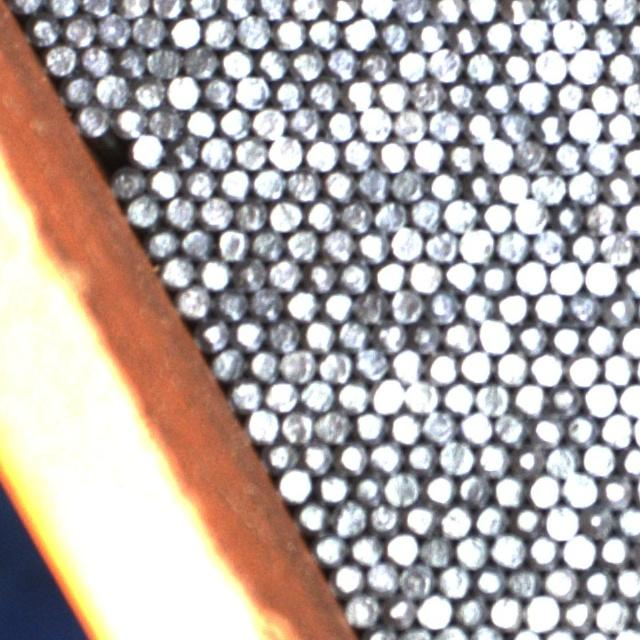tool: (552, 16, 587, 52), (354, 344, 389, 380), (439, 438, 474, 474), (422, 470, 457, 506), (389, 286, 424, 322), (399, 562, 434, 598), (366, 497, 402, 532), (384, 469, 419, 505), (62, 12, 97, 47), (525, 594, 560, 629), (426, 287, 461, 322), (569, 47, 604, 82), (376, 137, 411, 172), (531, 168, 566, 203), (493, 409, 528, 444), (406, 258, 441, 293), (544, 503, 579, 538), (404, 377, 439, 412), (147, 43, 182, 78), (457, 470, 492, 505), (458, 409, 493, 444), (436, 563, 471, 598), (232, 256, 267, 291), (110, 163, 145, 198), (582, 440, 616, 476), (543, 564, 579, 598), (506, 564, 542, 598), (516, 16, 550, 52), (371, 376, 405, 412), (562, 472, 598, 506), (316, 469, 350, 504), (168, 13, 202, 48), (595, 596, 629, 631), (342, 15, 376, 50), (568, 107, 602, 142), (545, 443, 580, 477), (266, 317, 301, 351), (368, 438, 403, 472), (417, 593, 452, 627), (391, 167, 426, 201), (494, 350, 529, 384), (148, 164, 182, 199), (458, 348, 492, 383), (392, 107, 427, 141), (477, 441, 511, 476), (340, 136, 375, 170), (532, 289, 566, 324), (514, 138, 549, 172), (514, 258, 548, 293), (268, 134, 303, 168), (279, 409, 314, 443), (403, 500, 438, 534), (404, 438, 438, 473), (372, 319, 407, 353), (455, 533, 489, 568), (316, 408, 350, 443), (215, 226, 250, 260), (480, 136, 514, 171), (237, 13, 271, 48), (365, 560, 400, 594), (97, 10, 131, 45), (582, 502, 617, 536), (127, 192, 161, 227), (318, 347, 352, 382), (352, 408, 387, 442), (278, 466, 312, 501), (128, 132, 163, 166), (281, 346, 315, 381), (584, 138, 618, 173), (530, 411, 564, 446), (566, 292, 601, 326), (214, 285, 249, 319), (442, 379, 476, 414), (423, 408, 457, 443), (438, 503, 473, 537), (300, 439, 334, 474), (307, 15, 341, 50), (475, 381, 510, 415), (459, 228, 494, 262), (357, 106, 392, 140), (413, 18, 448, 52), (419, 532, 454, 566), (131, 12, 166, 46), (561, 533, 595, 568), (561, 596, 594, 632), (530, 351, 564, 385), (428, 46, 462, 80), (443, 318, 477, 352), (199, 194, 233, 228), (480, 198, 514, 232), (551, 140, 585, 174), (528, 472, 562, 506), (250, 225, 284, 259), (533, 48, 567, 82), (601, 351, 635, 385), (478, 318, 512, 352), (164, 194, 198, 228), (496, 290, 530, 324), (304, 136, 338, 170), (273, 16, 307, 50), (428, 107, 462, 141), (474, 502, 508, 536), (567, 169, 601, 203), (496, 169, 530, 203), (549, 259, 583, 293), (600, 474, 634, 508), (390, 348, 424, 382), (247, 346, 281, 380), (304, 196, 338, 230), (346, 591, 380, 625), (96, 72, 130, 106), (289, 105, 323, 139), (373, 198, 407, 232), (302, 317, 336, 351), (79, 42, 113, 76), (479, 259, 513, 293), (584, 200, 618, 234), (603, 170, 637, 204), (390, 226, 424, 260), (220, 45, 254, 79), (356, 166, 390, 200), (167, 134, 201, 168), (252, 104, 286, 138), (604, 109, 638, 143), (491, 532, 525, 566), (300, 377, 334, 411), (602, 293, 636, 327), (264, 437, 298, 471), (286, 167, 320, 201), (566, 351, 600, 385), (584, 260, 618, 294), (264, 377, 298, 411), (516, 78, 550, 112), (338, 197, 372, 231), (338, 258, 372, 292), (166, 74, 200, 108), (583, 381, 617, 415), (454, 593, 488, 627), (304, 258, 338, 292), (378, 17, 412, 51), (268, 256, 302, 290), (250, 285, 284, 319), (534, 109, 568, 143), (411, 138, 445, 172), (580, 565, 614, 599), (177, 283, 211, 317), (335, 378, 369, 412), (322, 227, 356, 261), (532, 228, 566, 262), (464, 48, 498, 82), (473, 563, 507, 597), (489, 595, 523, 629), (332, 501, 366, 535), (234, 74, 268, 108), (285, 226, 319, 260), (514, 198, 548, 232), (409, 320, 443, 354), (460, 289, 494, 323), (564, 412, 598, 446), (512, 382, 546, 416), (548, 383, 582, 417), (212, 346, 246, 380), (496, 228, 530, 262), (314, 531, 348, 565), (586, 80, 620, 114), (384, 530, 418, 564), (285, 288, 319, 322), (334, 440, 368, 474), (589, 20, 623, 54), (203, 14, 236, 49), (426, 349, 459, 384), (45, 41, 78, 76), (443, 258, 478, 291), (326, 45, 359, 80), (388, 409, 421, 444), (296, 497, 329, 532), (218, 165, 251, 199), (252, 165, 285, 199), (322, 167, 356, 200), (443, 198, 477, 231), (427, 168, 460, 202), (549, 322, 583, 355), (200, 134, 233, 168), (268, 197, 302, 230), (355, 288, 388, 322), (600, 411, 633, 445), (492, 473, 526, 506), (584, 322, 617, 356), (218, 105, 251, 139), (395, 46, 428, 80), (324, 107, 357, 141), (330, 560, 364, 593), (291, 46, 325, 79), (232, 317, 266, 350), (179, 226, 213, 259), (500, 108, 533, 142), (515, 321, 548, 355), (510, 502, 543, 536), (77, 101, 111, 134), (115, 44, 148, 78), (184, 44, 217, 78), (183, 166, 216, 200), (132, 75, 165, 109), (234, 134, 267, 168), (360, 46, 393, 80), (601, 230, 634, 264), (272, 77, 306, 110), (257, 44, 290, 78), (149, 104, 183, 137), (197, 255, 230, 289), (553, 78, 586, 112), (464, 110, 498, 143), (349, 532, 383, 565), (527, 533, 561, 566), (445, 78, 479, 111), (598, 533, 632, 566), (512, 442, 545, 476), (447, 140, 480, 173), (501, 49, 534, 82), (450, 20, 483, 53), (246, 408, 279, 441), (61, 71, 94, 104), (343, 77, 376, 110), (384, 594, 417, 627), (234, 197, 267, 230), (356, 229, 389, 262), (426, 228, 459, 261), (482, 78, 515, 111), (230, 378, 263, 411), (410, 77, 443, 110), (606, 49, 638, 83), (322, 288, 354, 322), (202, 74, 234, 108), (484, 18, 516, 52), (374, 258, 406, 292), (410, 196, 442, 230), (352, 471, 384, 505), (308, 76, 340, 110), (160, 254, 194, 286), (113, 104, 147, 136), (464, 171, 496, 204), (377, 78, 410, 110), (200, 317, 232, 350), (552, 202, 585, 234), (568, 230, 600, 263), (336, 317, 368, 350), (29, 12, 61, 45), (145, 226, 178, 258), (184, 105, 216, 138), (614, 566, 640, 600), (502, 0, 536, 24), (616, 503, 640, 537), (536, 0, 570, 24), (617, 443, 640, 478), (572, 0, 604, 25), (432, 0, 465, 24), (604, 0, 638, 23), (466, 0, 500, 22), (618, 382, 640, 416), (395, 0, 430, 21), (619, 322, 640, 356), (326, 0, 360, 21), (620, 142, 640, 176), (470, 622, 506, 640), (290, 0, 324, 19), (621, 262, 640, 296), (621, 79, 640, 113), (256, 0, 290, 19), (621, 200, 640, 234), (360, 0, 394, 19), (222, 0, 255, 19), (187, 0, 220, 19), (365, 621, 398, 640), (152, 0, 186, 18), (117, 0, 151, 17), (46, 0, 80, 17), (434, 623, 468, 640), (80, 0, 115, 16), (399, 624, 433, 640), (624, 21, 640, 54), (508, 625, 542, 640), (9, 0, 43, 13)
